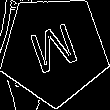M_S: (25, 18, 84, 81)
